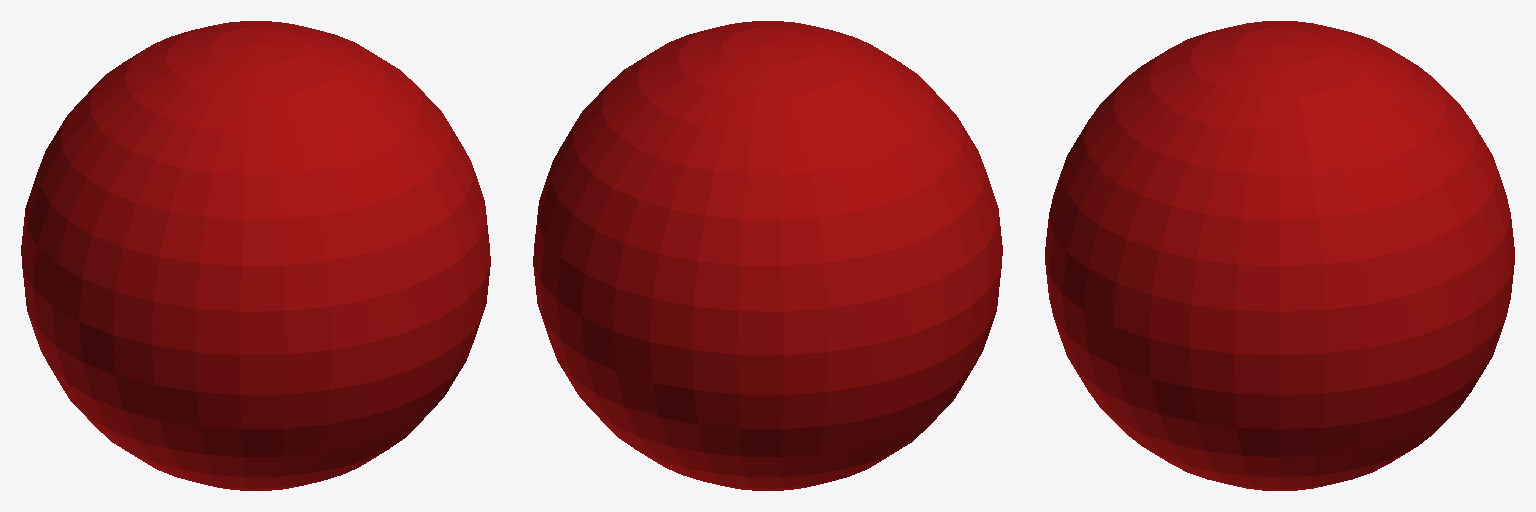
Rendered from sphereRed.obj.
The picture shows the model from 3 angles: view 1: azimuth 30°, elevation 25°; view 2: azimuth 150°, elevation 25°; view 3: azimuth 270°, elevation 25°; orthographic projection.
Parts seen in each view (by area): view 1: Sphere01; view 2: Sphere01; view 3: Sphere01.
Part boxes in pixels (bbox=[...]): Sphere01: bbox=[21, 21, 490, 490]; Sphere01: bbox=[533, 21, 1002, 490]; Sphere01: bbox=[1045, 21, 1514, 490].
Size of the model in its own units: 5.53 by 5.53 by 5.53.